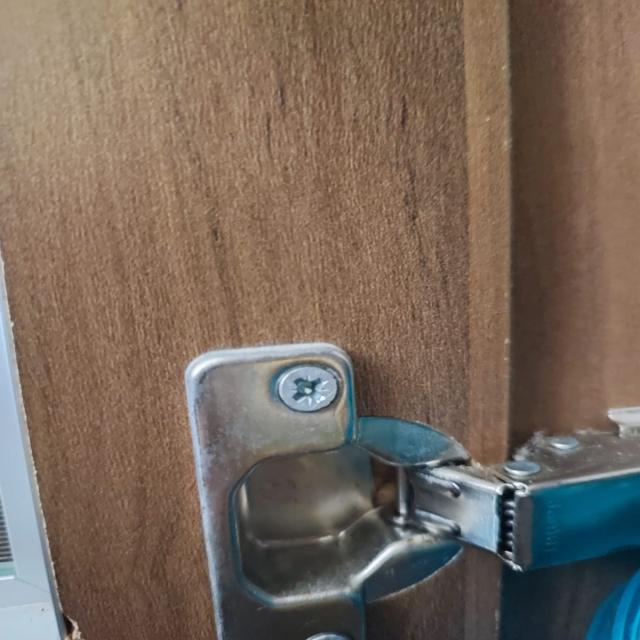Pozidriv: (274, 362, 339, 420)
